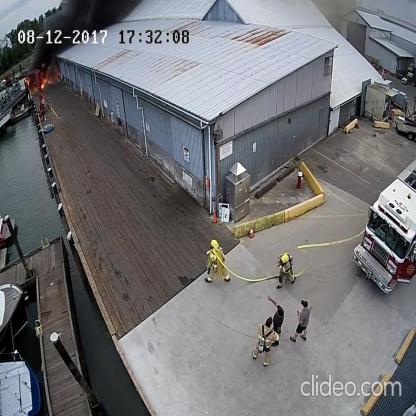fire: (39, 70, 53, 89), (22, 77, 32, 88)
